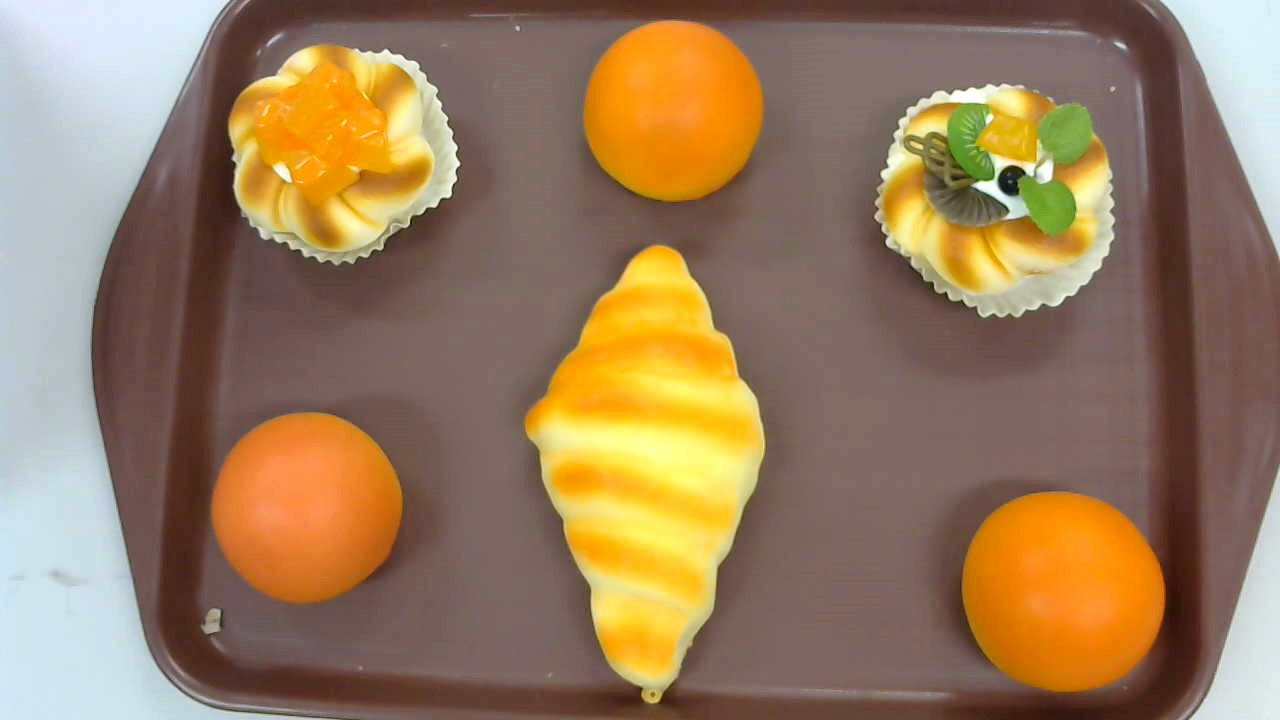bun: (959, 491, 1166, 692), (209, 411, 401, 603), (581, 20, 766, 200)
croissant: (524, 243, 766, 704)
fruit tart: (874, 83, 1114, 321)
mango tart: (228, 42, 460, 266)
